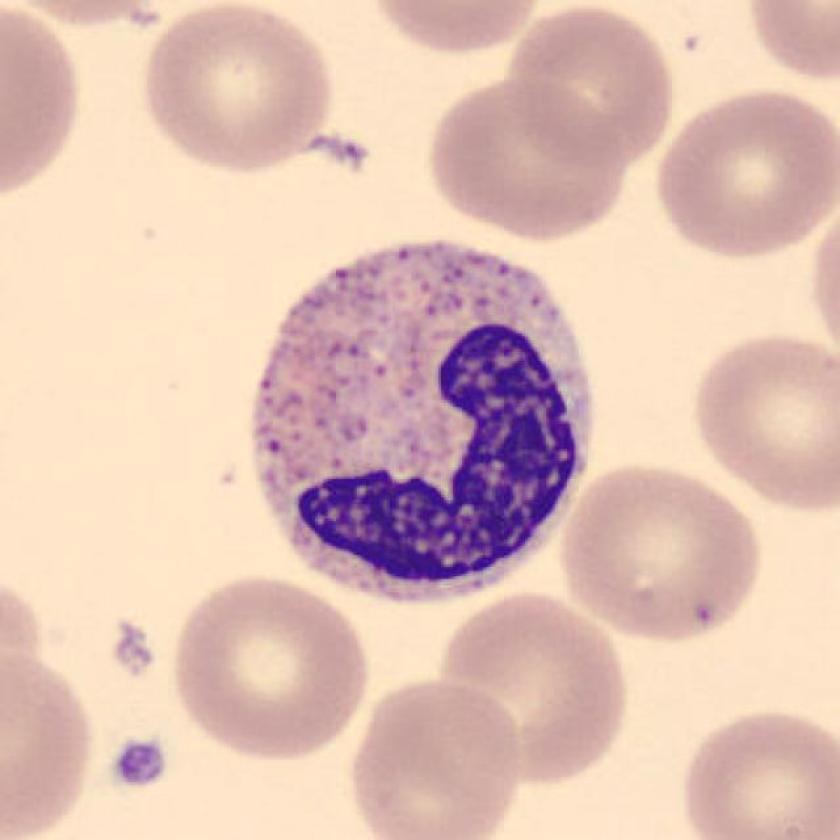neutrophil: (254, 243, 592, 606)
